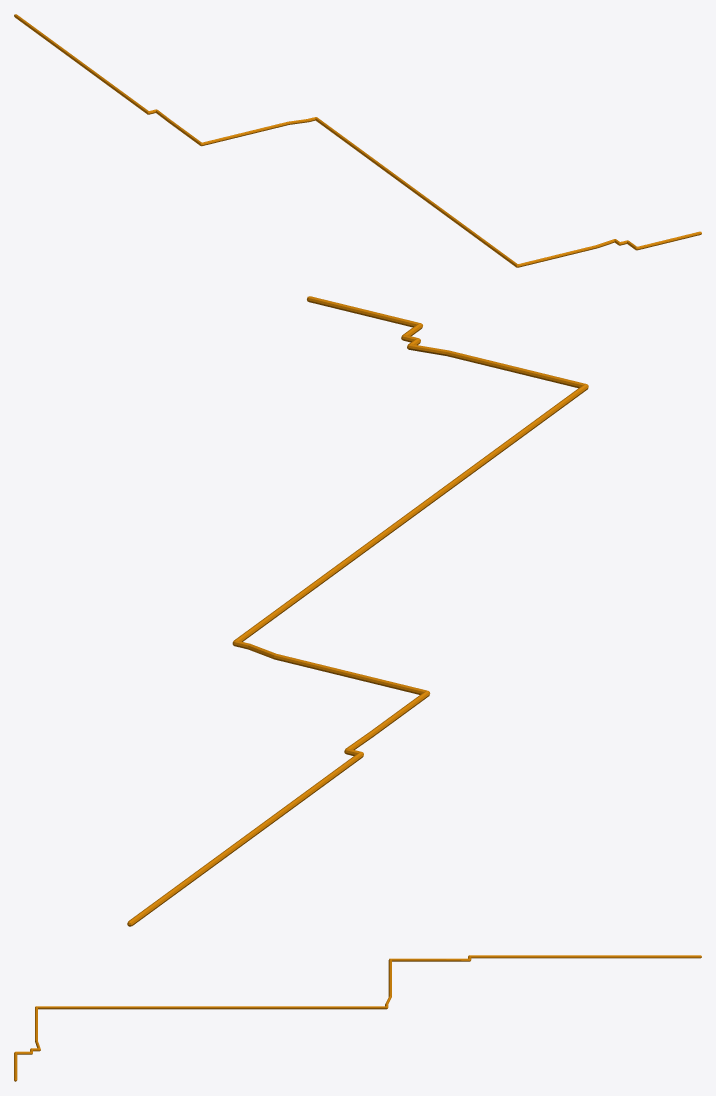
3 renders of one model, top to bottom at view 1: azimuth 30°, elevation 25°; view 2: azimuth 150°, elevation 25°; view 3: azimuth 270°, elevation 25°, orthographic. The views are drawn at different scales.
Size of the model in its own units: 1852 by 20 by 4322.
